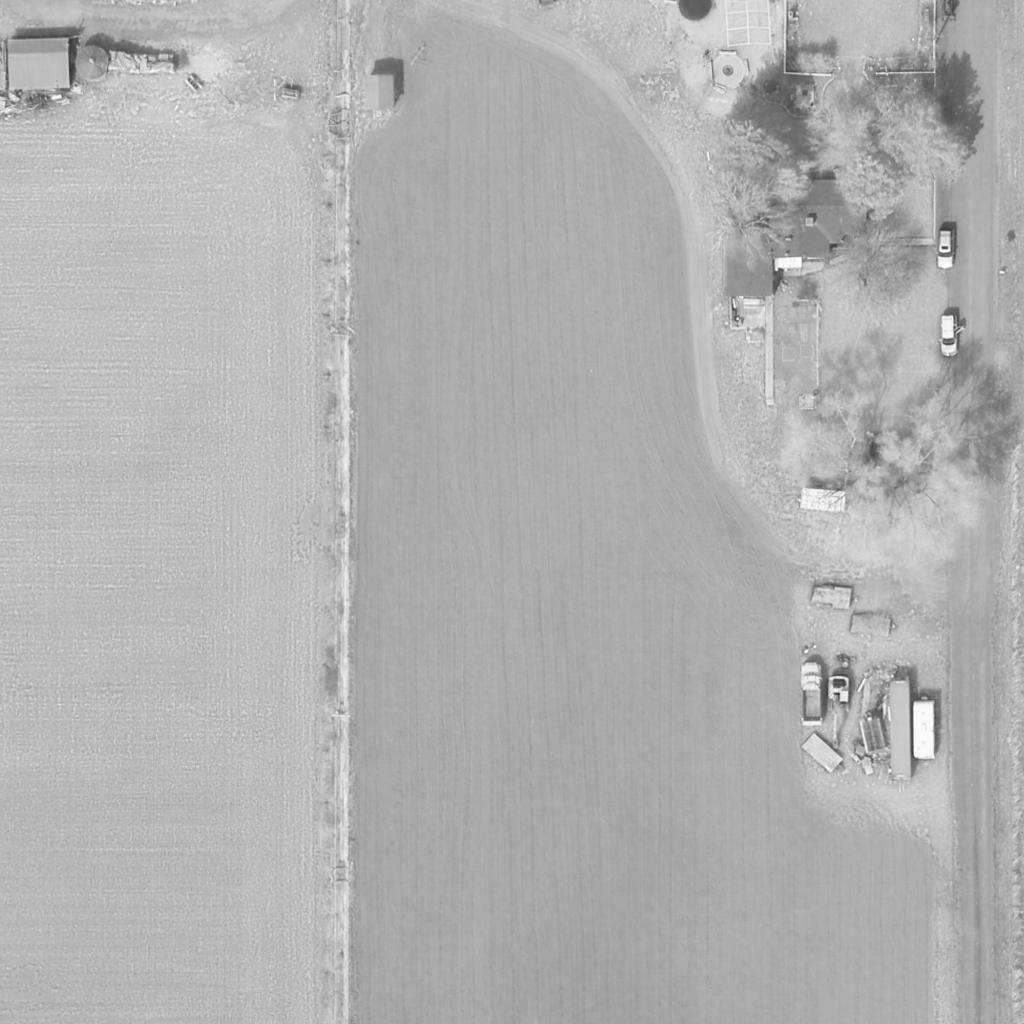vehicle: (826, 675, 850, 749), (912, 696, 938, 760), (800, 661, 824, 727), (795, 489, 849, 511), (941, 315, 959, 359), (938, 229, 954, 271)
